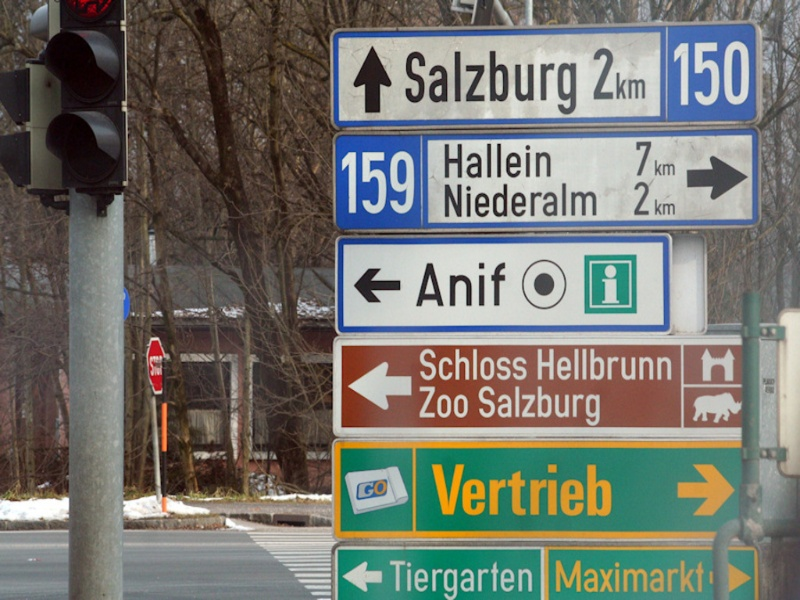left_direction: (345, 360, 416, 415), (353, 264, 405, 308), (341, 560, 384, 594)
right_direction: (675, 457, 738, 522), (683, 154, 750, 203)
straight_direction: (349, 40, 396, 118)
